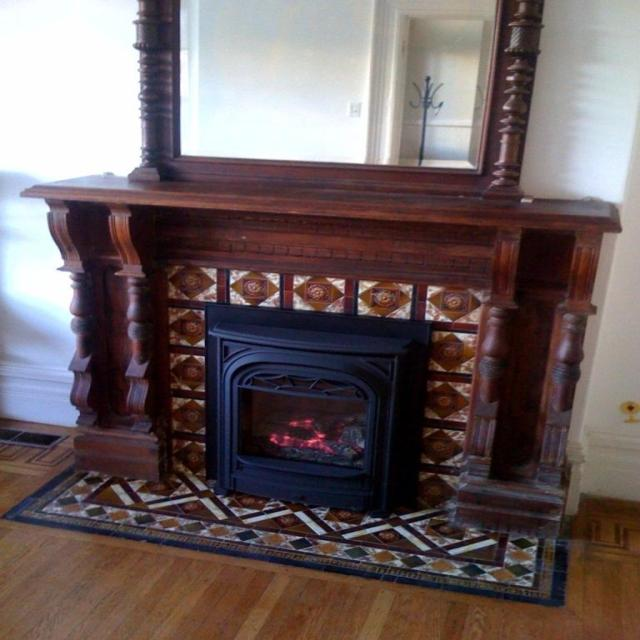Fire: (278, 420, 328, 451)
